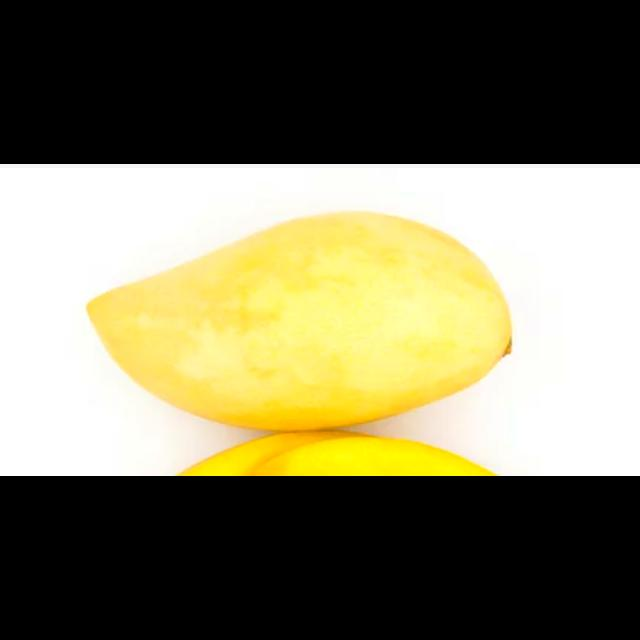mango: (83, 211, 516, 432)
